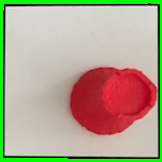Red Castle: (67, 60, 158, 139)
